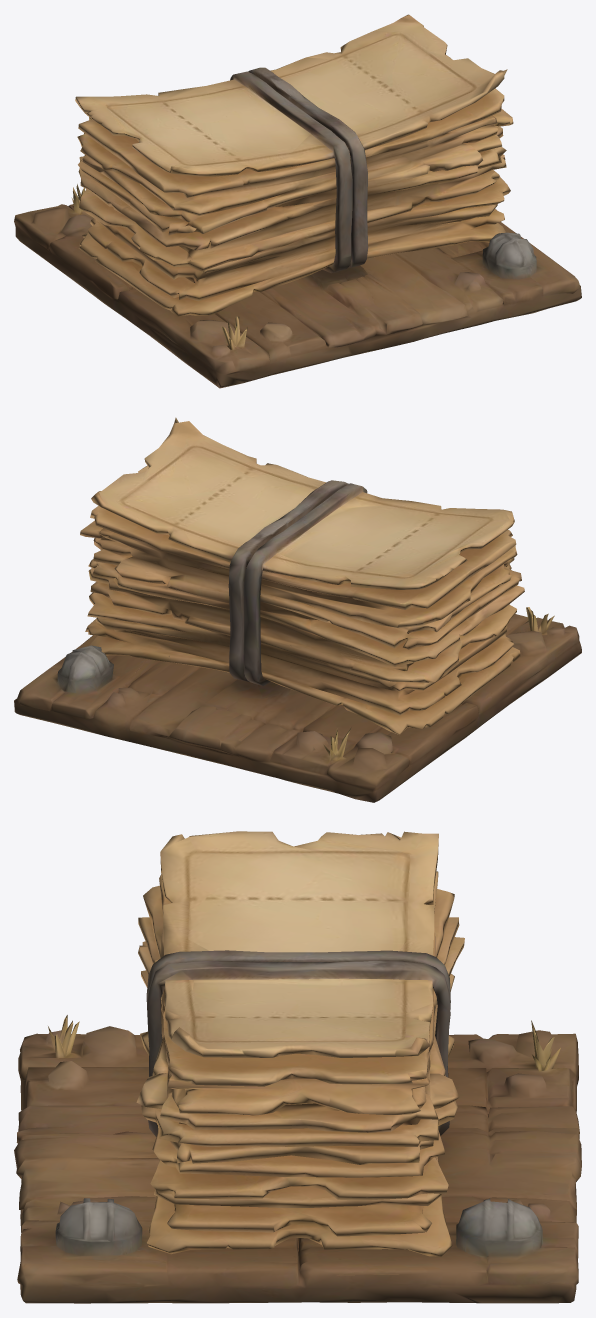
The model's file is item_tickets.glb.
3 views of the same model, one above another, from view 1: azimuth 30°, elevation 25°; view 2: azimuth 150°, elevation 25°; view 3: azimuth 270°, elevation 25° (orthographic). The views are drawn at different scales.
Parts seen in each view (by area): view 1: tripo_node_ed2b5ceb-598e-4882-8f97-83f5fa49e486; view 2: tripo_node_ed2b5ceb-598e-4882-8f97-83f5fa49e486; view 3: tripo_node_ed2b5ceb-598e-4882-8f97-83f5fa49e486.
Part boxes in pixels (x1,y1,x2,y2): tripo_node_ed2b5ceb-598e-4882-8f97-83f5fa49e486: [14, 14, 581, 388]; tripo_node_ed2b5ceb-598e-4882-8f97-83f5fa49e486: [14, 417, 581, 802]; tripo_node_ed2b5ceb-598e-4882-8f97-83f5fa49e486: [14, 831, 581, 1303].
Size of the model in its own units: 1 by 0.5046 by 0.9969.
1 material, 1 textured.
